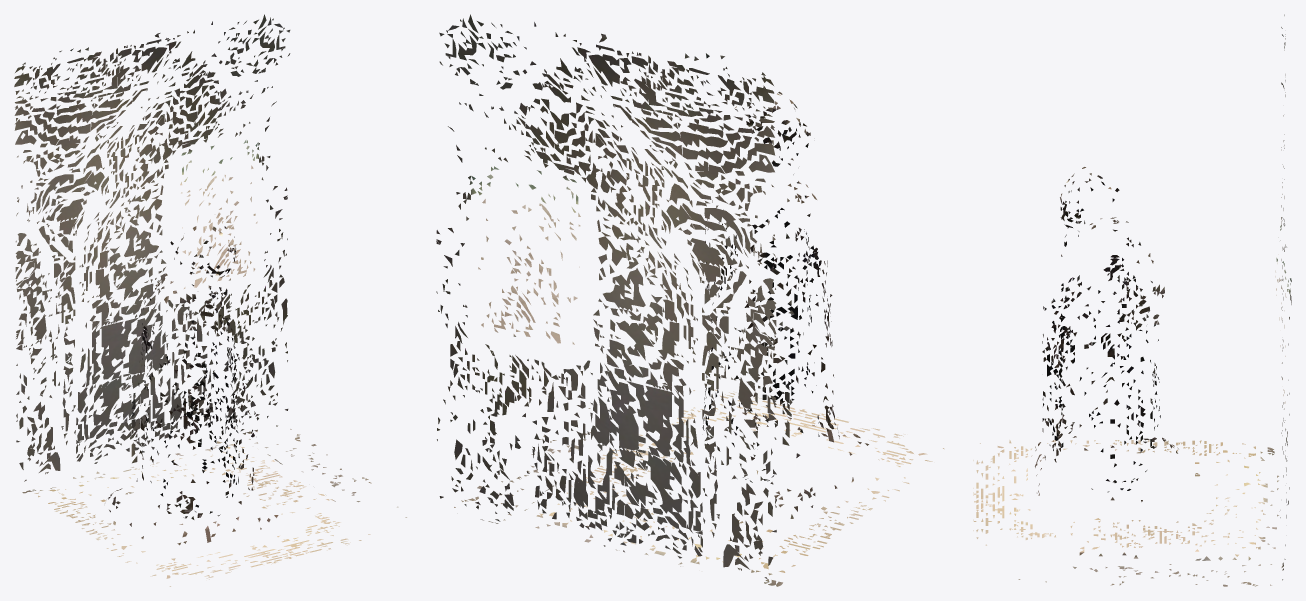
File: iron_maiden.glb
3 views of the same model, side by side, from view 1: azimuth 30°, elevation 25°; view 2: azimuth 150°, elevation 25°; view 3: azimuth 270°, elevation 25° (orthographic). The views are drawn at different scales.
Parts seen in each view (by area): view 1: Object_4, Object_7, Object_5, Object_6, Object_8, Object_9, Object_10; view 2: Object_4, Object_7, Object_5, Object_6, Object_9, Object_8, Object_10; view 3: Object_6, Object_8, Object_9, Object_10.
Part boxes in pixels (bbox=[...]): Object_4: bbox=[14, 27, 349, 579]; Object_7: bbox=[15, 14, 370, 586]; Object_5: bbox=[19, 51, 361, 563]; Object_6: bbox=[21, 45, 360, 562]; Object_8: bbox=[16, 21, 371, 549]; Object_9: bbox=[33, 58, 406, 578]; Object_10: bbox=[147, 190, 323, 567]; Object_4: bbox=[436, 31, 909, 579]; Object_7: bbox=[444, 14, 944, 570]; Object_5: bbox=[438, 58, 905, 565]; Object_6: bbox=[505, 51, 889, 555]; Object_9: bbox=[439, 69, 927, 552]; Object_8: bbox=[456, 22, 821, 586]; Object_10: bbox=[450, 143, 848, 479]; Object_6: bbox=[985, 14, 1285, 568]; Object_8: bbox=[974, 82, 1291, 585]; Object_9: bbox=[974, 80, 1287, 586]; Object_10: bbox=[974, 187, 1288, 521].
Size of the model in its own units: 1.86 by 2.77 by 1.8.
2 materials, 2 textured.
